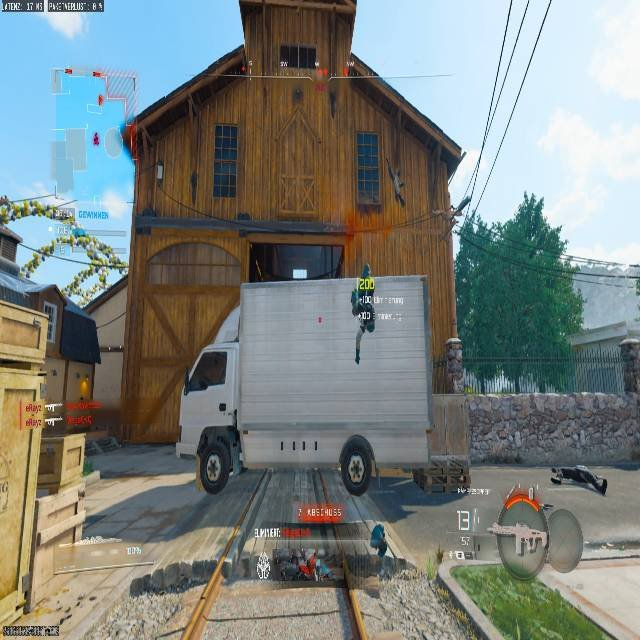player: (352, 274, 375, 346), (444, 335, 464, 392)
